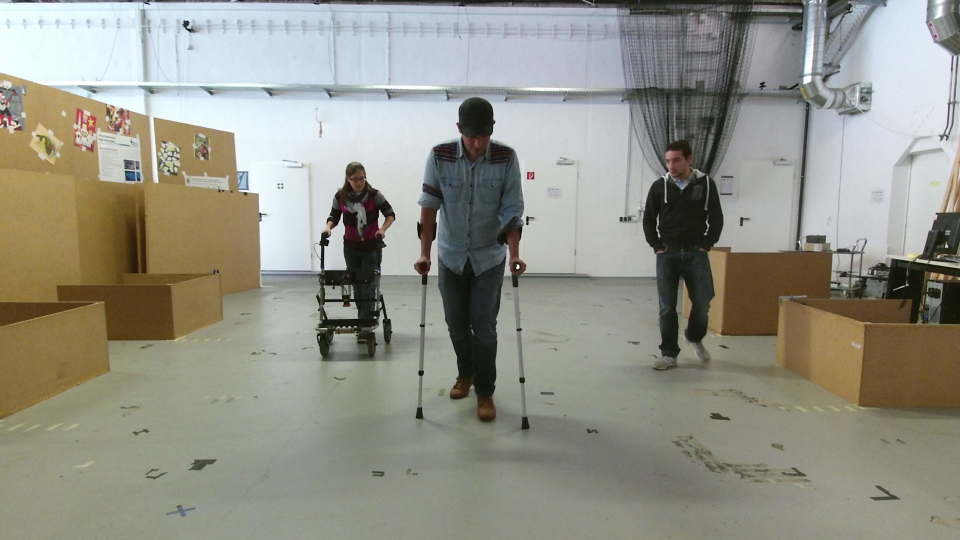crutches: (403, 89, 549, 435)
